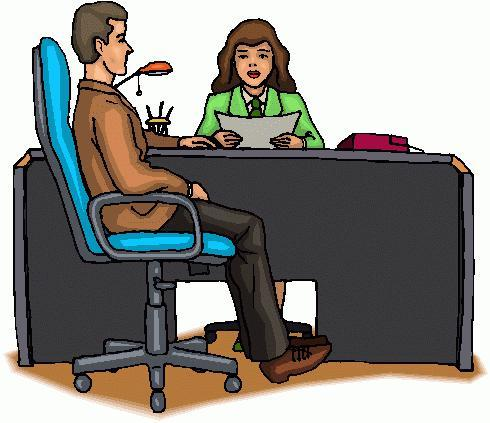chair: (25, 35, 247, 415)
person: (64, 1, 335, 383), (187, 14, 328, 147)
